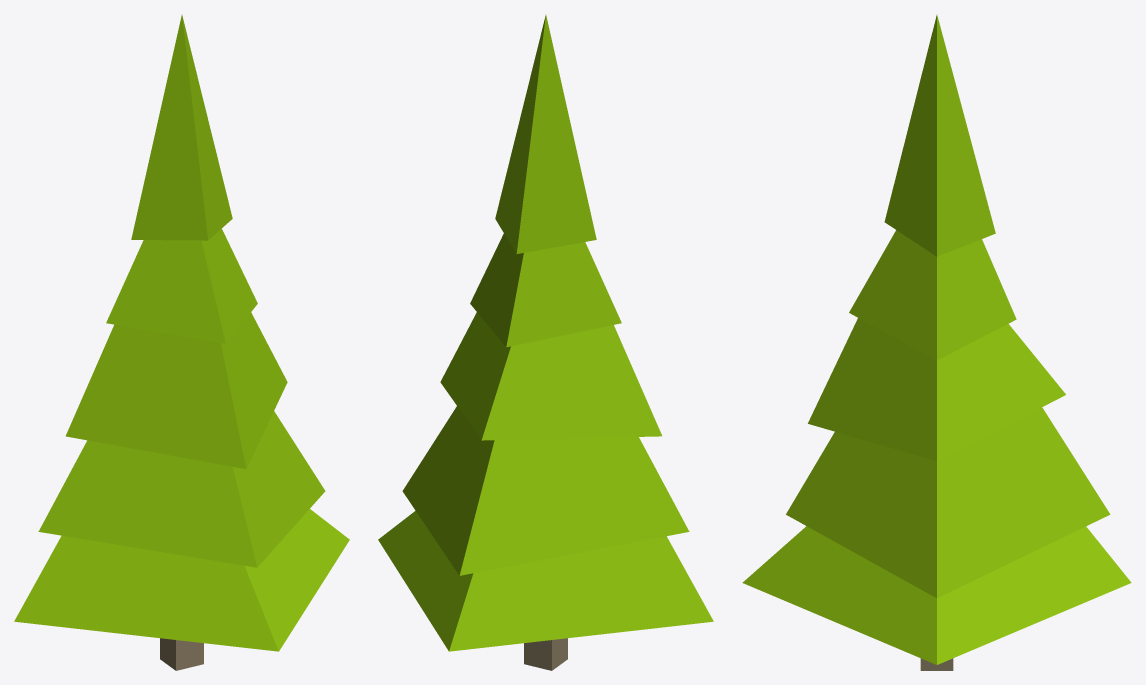
The model's file is pine_skewed_10.fbx.
3 renders of one model, left to right at view 1: azimuth 30°, elevation 25°; view 2: azimuth 150°, elevation 25°; view 3: azimuth 270°, elevation 25°, orthographic.
Parts seen in each view (by area): view 1: pine_skewed_10; view 2: pine_skewed_10; view 3: pine_skewed_10.
Boxes of the visible parts, bbox=[...] form: pine_skewed_10: bbox=[14, 15, 349, 670]; pine_skewed_10: bbox=[378, 15, 713, 670]; pine_skewed_10: bbox=[742, 15, 1131, 670].
Bounding box in the file's own units: 145 × 266 × 145.
